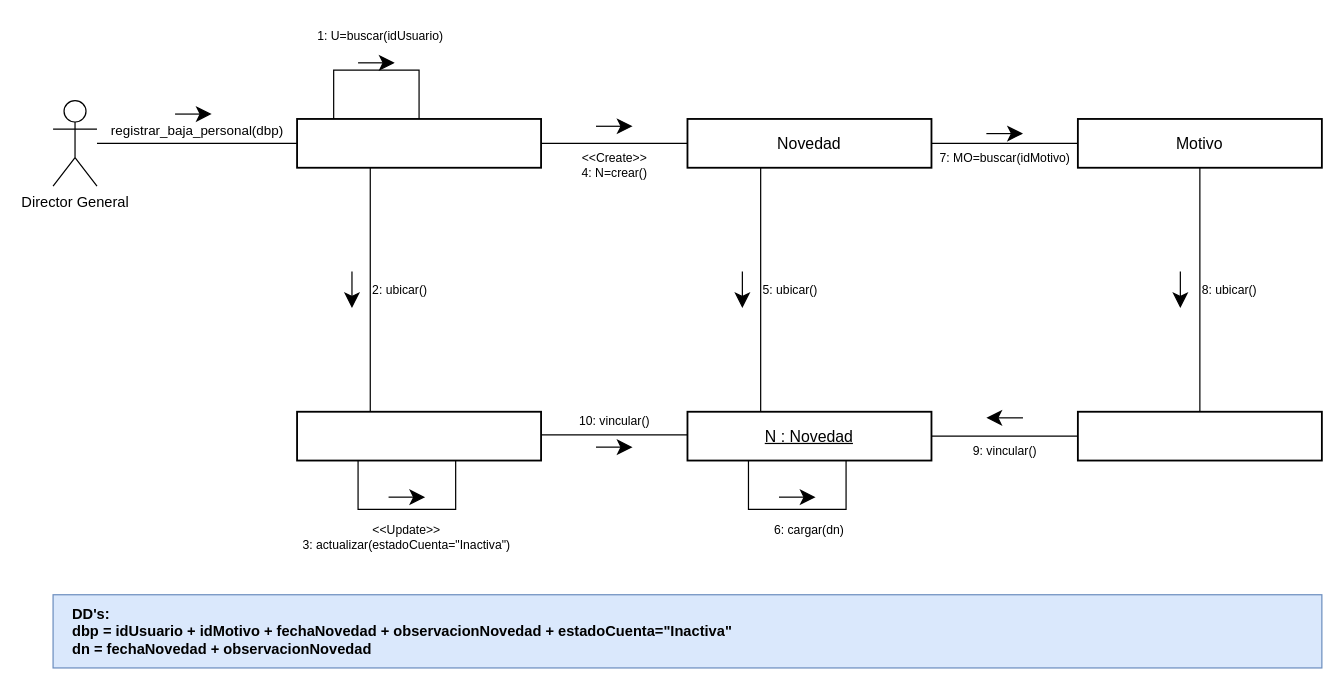
Image size: 1343x689. Some labels were removed from this diagram. Each missing label, with the box of its shape:
MO : Motivo: (1076, 410, 1322, 461)
U : Usuario: (296, 410, 541, 461)
Usuario: (296, 117, 541, 168)
